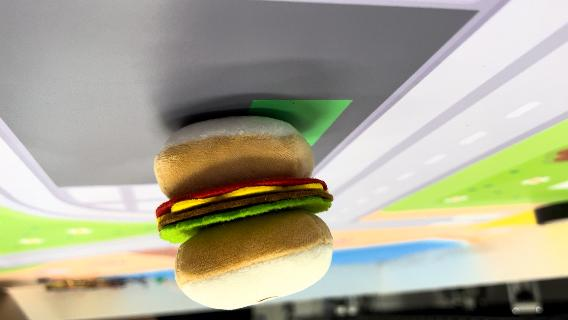sandwich: (150, 112, 338, 310)
